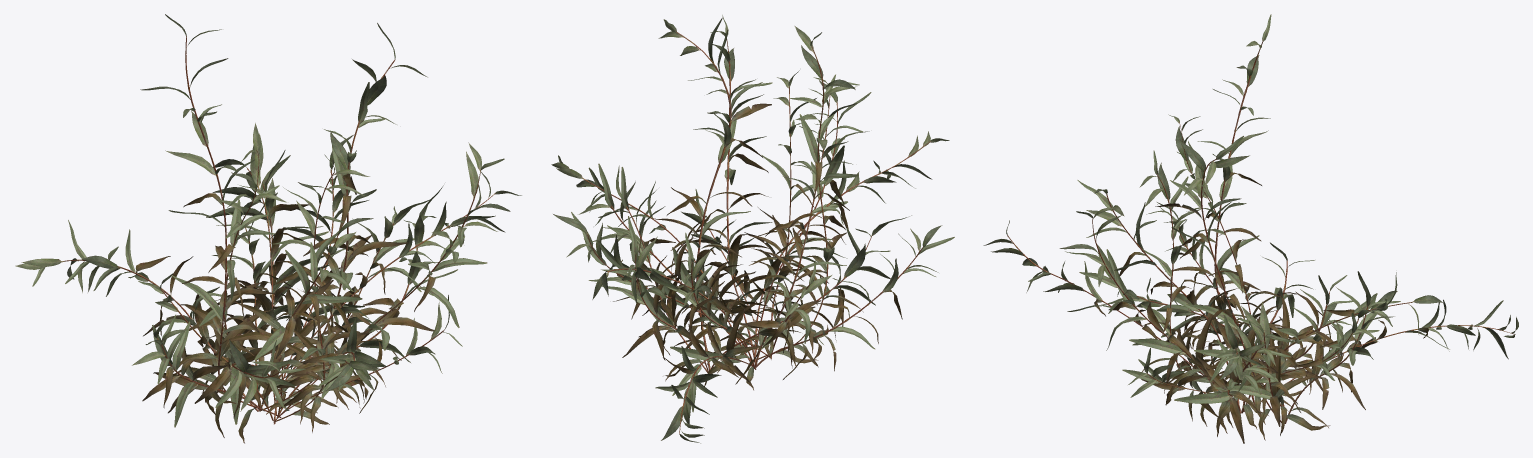
Rendered from shrub_02.glb.
The picture shows the model from 3 angles, left to right: view 1: azimuth 30°, elevation 25°; view 2: azimuth 150°, elevation 25°; view 3: azimuth 270°, elevation 25°; orthographic projection. The views are drawn at different scales.
Parts seen in each view (by area): view 1: shrub_02_0, shrub_02_2, shrub_02_1, shrub_02_3; view 2: shrub_02_2, shrub_02_0, shrub_02_1, shrub_02_3; view 3: shrub_02_0, shrub_02_1, shrub_02_2, shrub_02_3.
Boxes of the visible parts, box(x1,y1,x2,y2) form: shrub_02_0: box(140, 14, 510, 443); shrub_02_2: box(15, 123, 521, 437); shrub_02_1: box(172, 23, 433, 424); shrub_02_3: box(138, 134, 462, 432); shrub_02_2: box(551, 77, 954, 443); shrub_02_0: box(578, 15, 871, 364); shrub_02_1: box(596, 17, 911, 384); shrub_02_3: box(553, 70, 831, 367); shrub_02_0: box(1059, 14, 1442, 443); shrub_02_1: box(1101, 136, 1400, 440); shrub_02_2: box(983, 114, 1518, 427); shrub_02_3: box(1122, 150, 1379, 426).
Size of the model in its own units: 1.77 by 1.69 by 2.29.
Materials: 1 (1 with a texture image).
